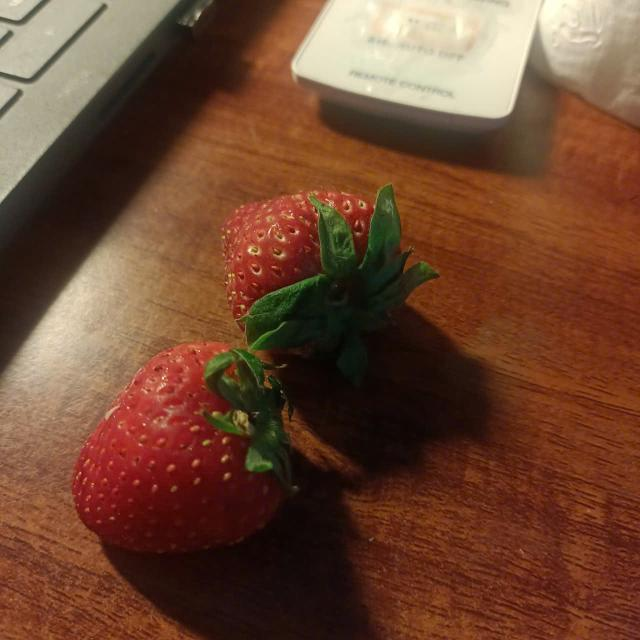DauTay: (62, 320, 330, 573), (212, 175, 432, 393)
